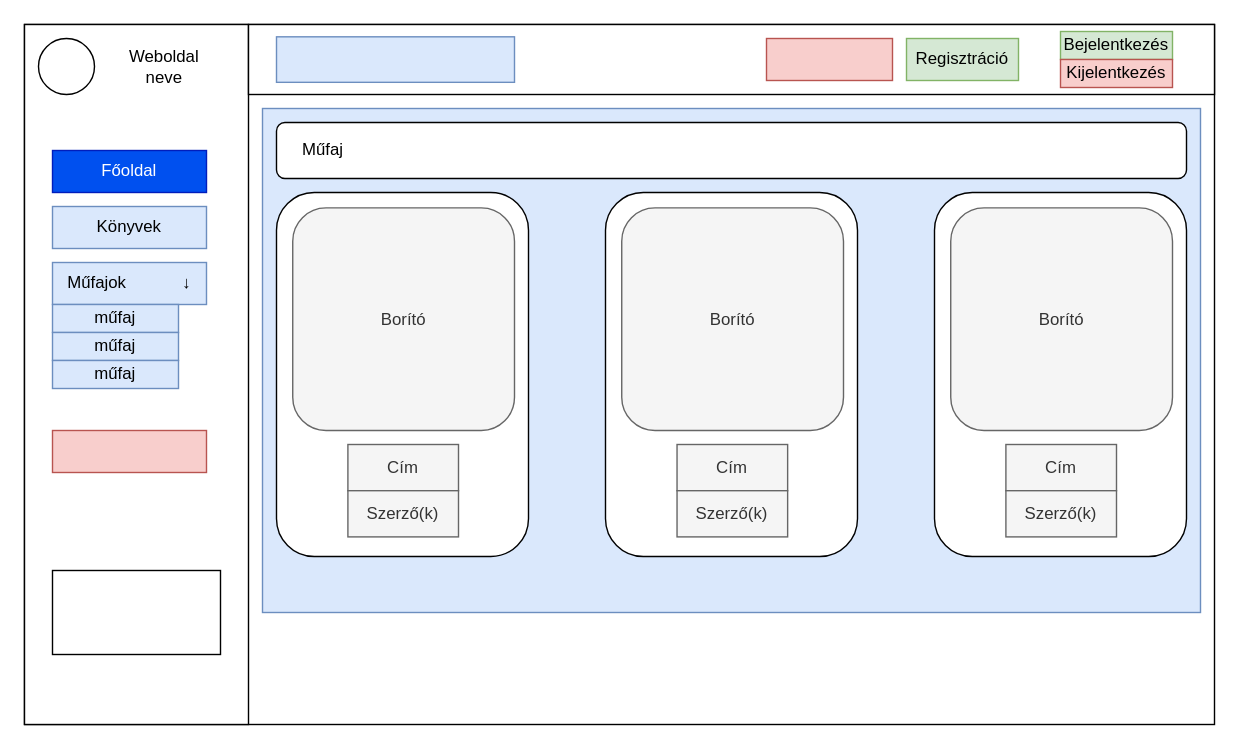
Some shapes in this 1239 by 749 pixel diagram are drawn without their labels. Here are the shapes that lost their labels. From the top down, the box of each, then its label:
(37, 37, 94, 94): Logo
(275, 35, 514, 82): Keresés
(765, 37, 892, 80): Kosaram
(51, 429, 206, 472): Kedvenc könyvek
(51, 569, 220, 654): ÁSZF Kapcsolat
